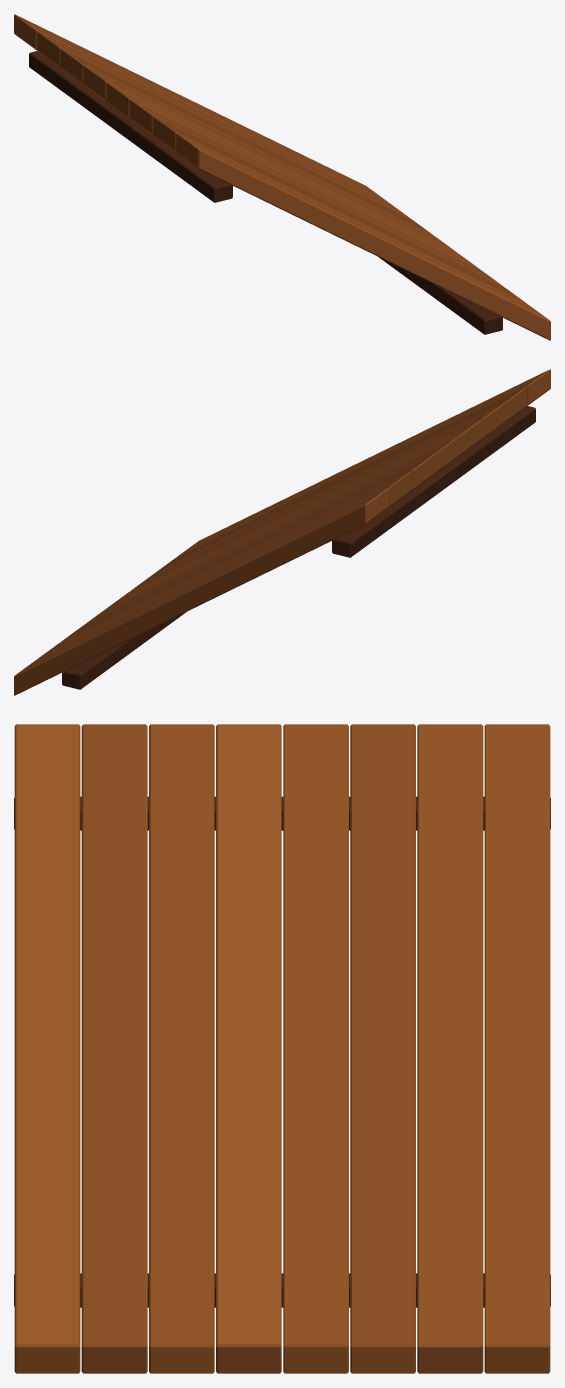
The model's file is A13_Roof_Slope_2m.fbx.
3 views of the same model, one above another, from view 1: azimuth 30°, elevation 25°; view 2: azimuth 150°, elevation 25°; view 3: azimuth 270°, elevation 25° (orthographic). The views are drawn at different scales.
Parts seen in each view (by area): view 1: A13_Roof_Slope_2m; view 2: A13_Roof_Slope_2m; view 3: A13_Roof_Slope_2m.
Part boxes in pixels (<box>): A13_Roof_Slope_2m: <box>14,14,550,340</box>; A13_Roof_Slope_2m: <box>14,369,550,695</box>; A13_Roof_Slope_2m: <box>14,724,550,1373</box>.
Bounding box in the file's own units: 2.2 × 1.65 × 2.
Materials: 2 (2 with a texture image).
